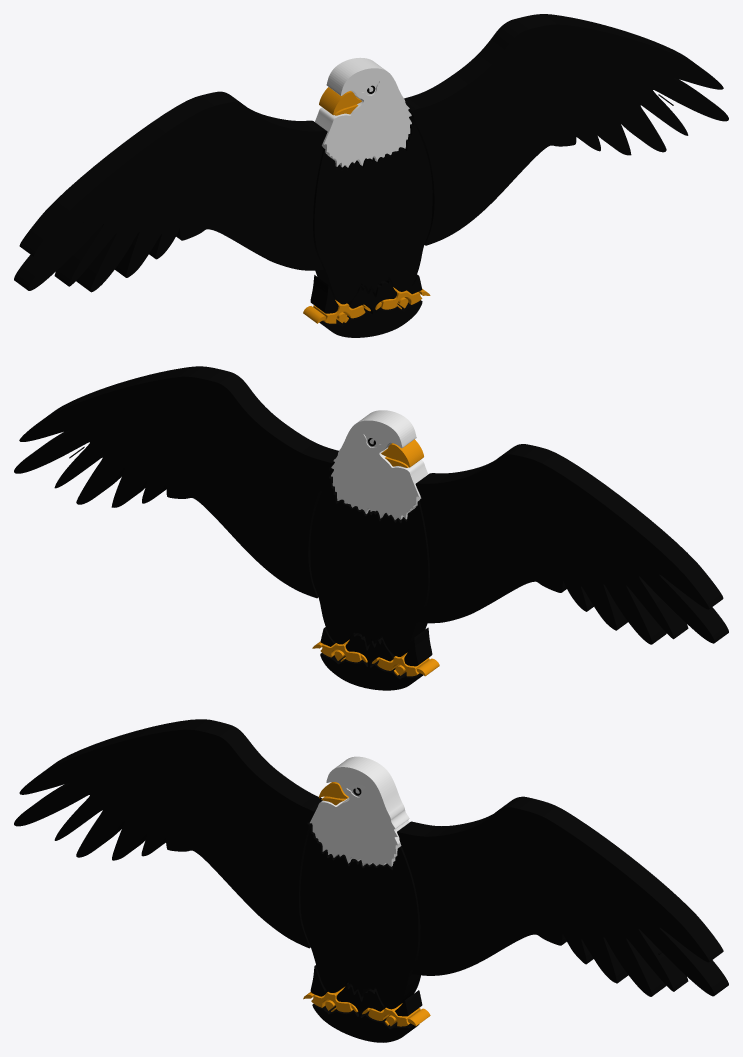
Rendered from topEagle.fbx.
3 views of the same model, one above another, from view 1: azimuth 30°, elevation 25°; view 2: azimuth 150°, elevation 25°; view 3: azimuth 330°, elevation 25° (orthographic).
Visible parts, largest first — view 1: Curve, Curve.003, Curve.006, Curve.001, Curve.009, Curve.008, Curve.004; view 2: Curve, Curve.003, Curve.006, Curve.001, Curve.009, Curve.008, Curve.004; view 3: Curve.003, Curve, Curve.006, Curve.001, Curve.009.
Part boxes in pixels (left/top/right/bottom): Curve: left=14, top=91, right=327, bottom=292; Curve.003: left=404, top=14, right=728, bottom=245; Curve.006: left=313, top=123, right=432, bottom=304; Curve.001: left=315, top=57, right=411, bottom=167; Curve.009: left=319, top=280, right=422, bottom=337; Curve.008: left=310, top=275, right=338, bottom=313; Curve.004: left=319, top=87, right=361, bottom=115; Curve: left=415, top=444, right=728, bottom=644; Curve.003: left=14, top=366, right=338, bottom=598; Curve.006: left=310, top=475, right=429, bottom=656; Curve.001: left=331, top=410, right=428, bottom=519; Curve.009: left=320, top=632, right=423, bottom=690; Curve.008: left=404, top=627, right=432, bottom=666; Curve.004: left=381, top=439, right=423, bottom=467; Curve.003: left=397, top=796, right=728, bottom=996; Curve: left=14, top=719, right=322, bottom=948; Curve.006: left=300, top=827, right=420, bottom=1009; Curve.001: left=310, top=756, right=409, bottom=866; Curve.009: left=312, top=982, right=419, bottom=1042.
Bounding box in the file's own units: 12.02 × 4.42 × 0.4299.
